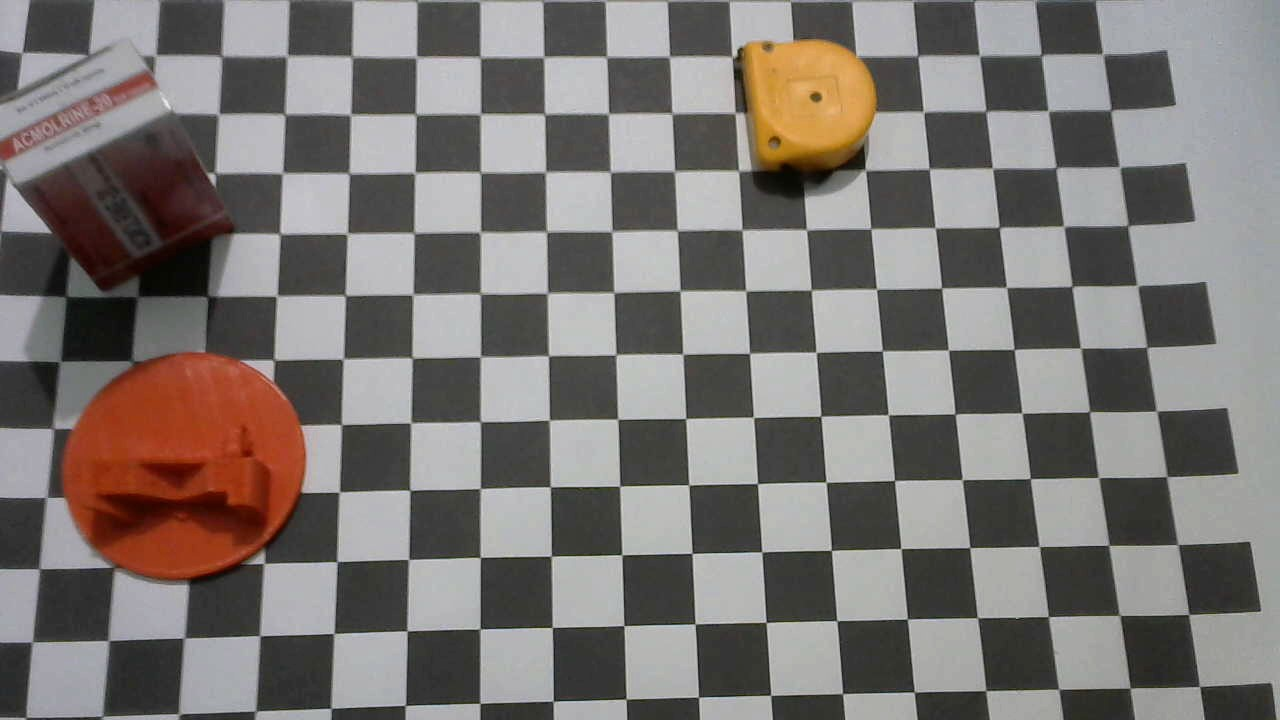blue: (738, 38, 879, 179)
green: (60, 354, 309, 580)
red: (4, 40, 235, 291)
